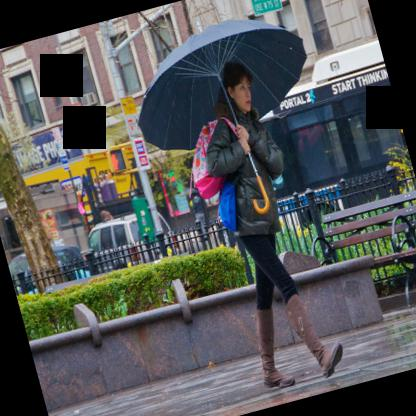backpack: (188, 118, 227, 200)
handbag: (219, 172, 237, 229)
